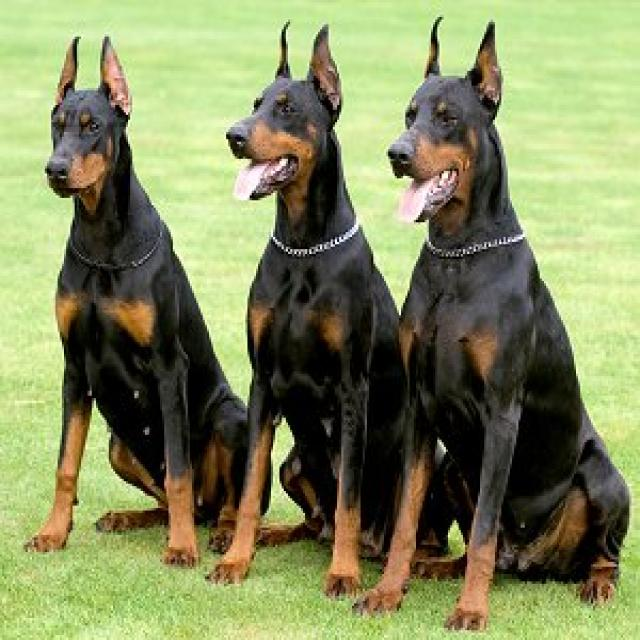dobermanpinschers: (388, 4, 516, 252), (226, 23, 340, 254), (33, 29, 152, 210)
